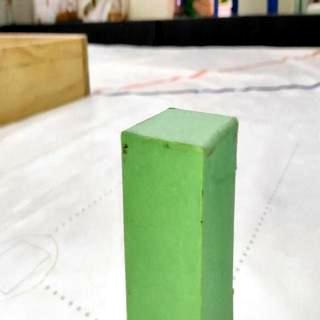greenbox: (119, 104, 242, 320)
